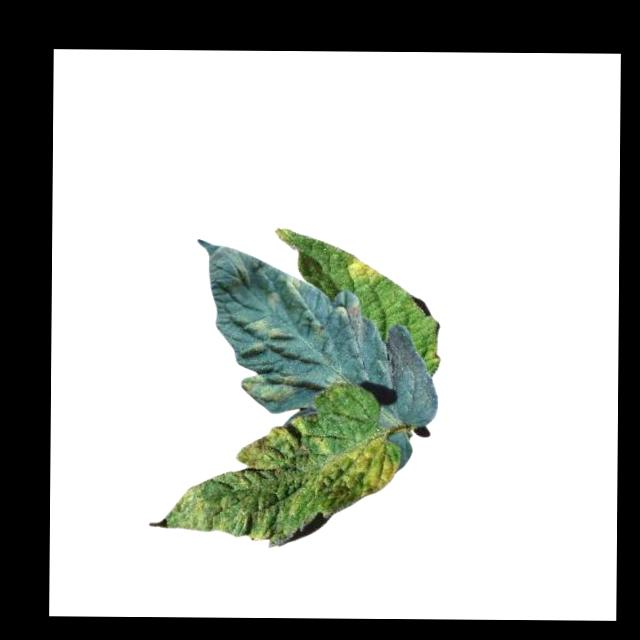Leaf_Mold: (163, 412, 400, 546), (238, 368, 296, 402), (243, 319, 291, 355), (346, 254, 389, 284), (335, 302, 366, 338)
